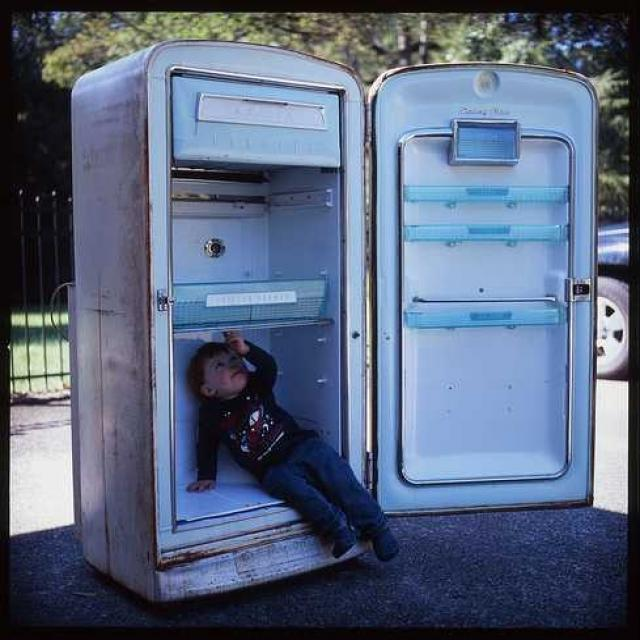refrigerator: (79, 48, 374, 603)
